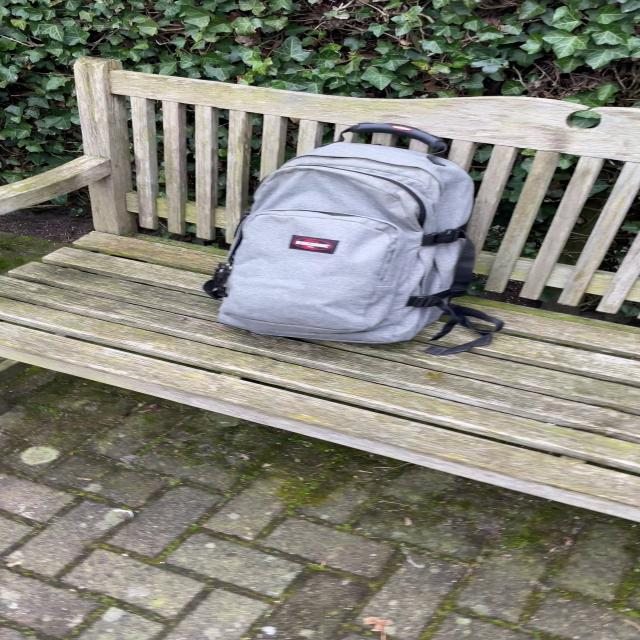backpack: (199, 118, 488, 350)
